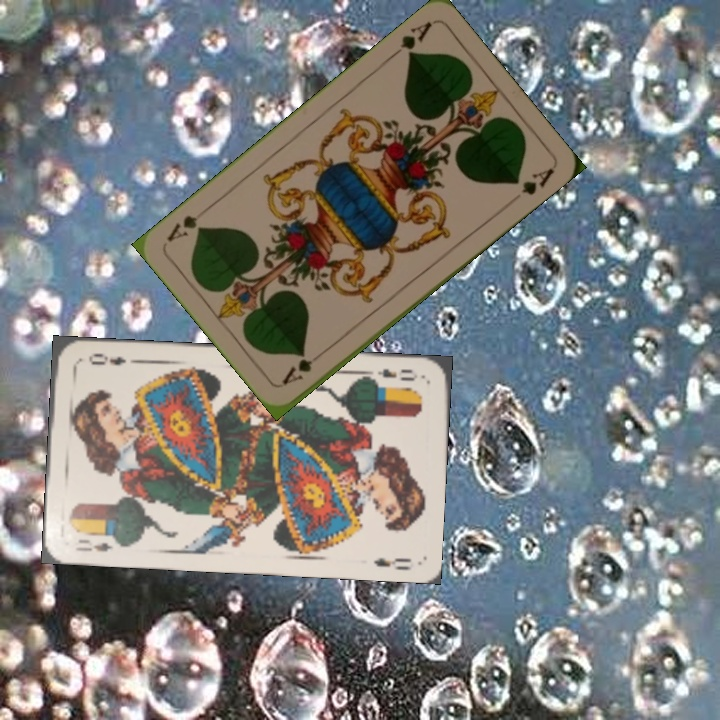EO: (366, 365, 420, 386), (72, 535, 116, 554)
GA: (386, 16, 435, 62), (278, 354, 315, 388)
